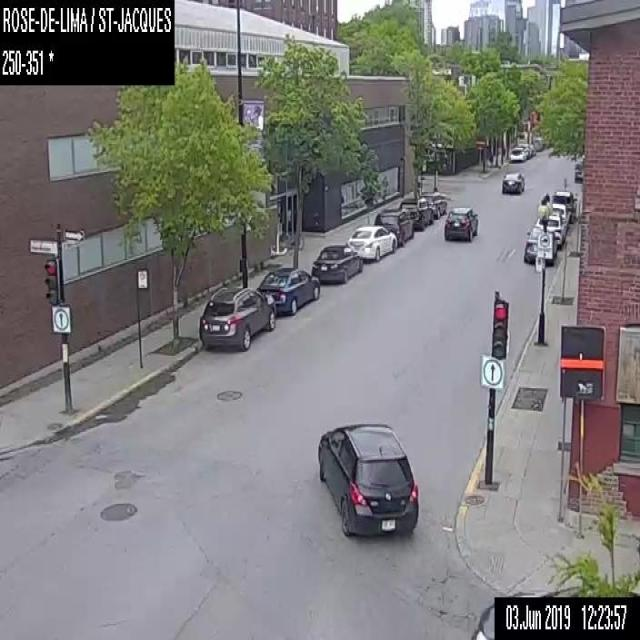vehicle: (316, 422, 418, 538), (197, 285, 275, 352), (255, 266, 320, 316), (311, 243, 364, 285), (346, 224, 396, 262), (375, 206, 414, 248), (522, 226, 558, 265), (443, 206, 478, 242), (398, 196, 433, 228), (534, 213, 566, 246), (551, 189, 577, 221), (418, 191, 446, 217), (500, 168, 524, 192), (551, 202, 570, 227), (509, 146, 525, 160), (574, 159, 582, 181)
